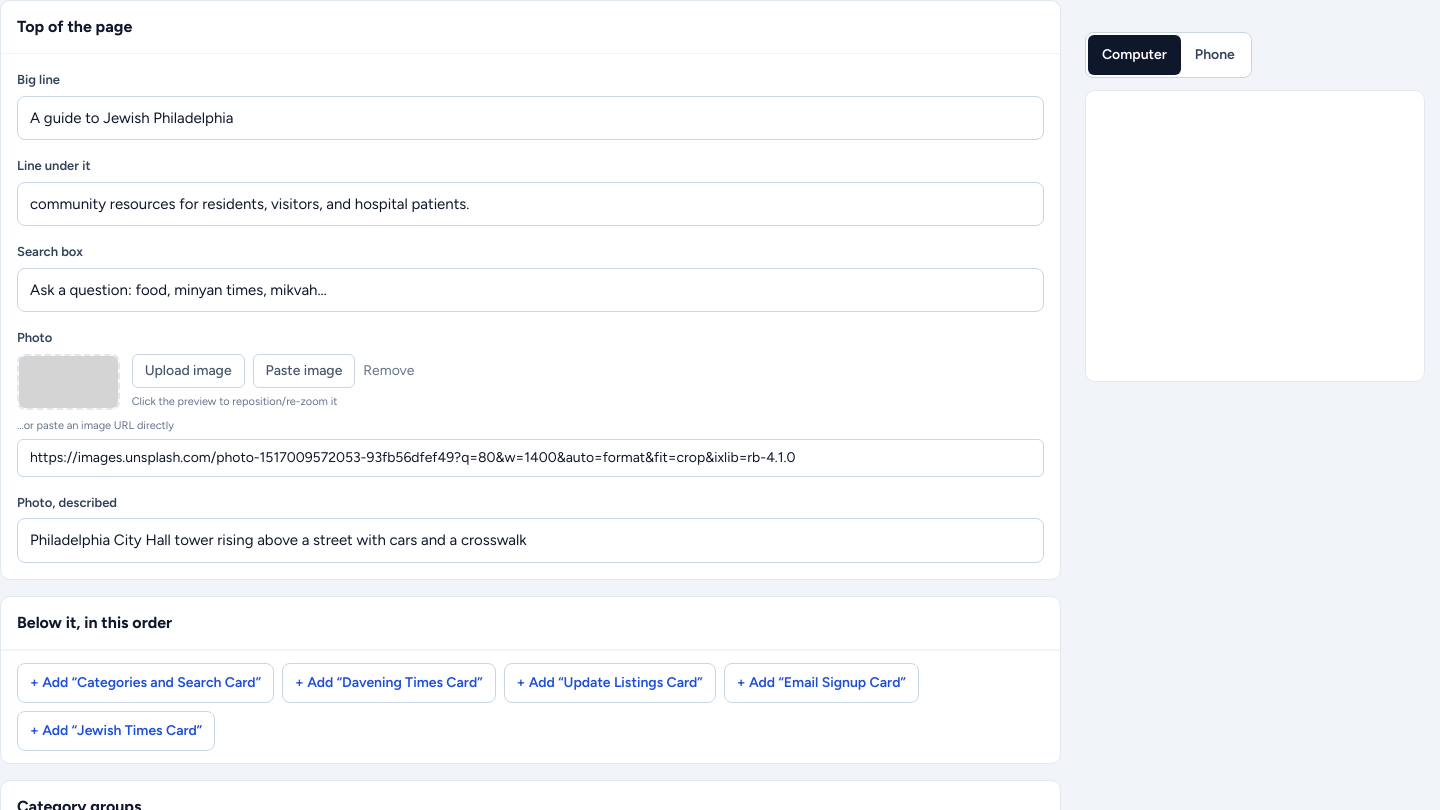
Test: SiteSettingsEditor — Home page › Save sends the settings and says it saved
The width and height of the screenshot is (1440, 810).
Expected: the element named "Preview" is shown, [1085,32,1425,382]
Type "!" into the field labelled "Search box" at (530, 290), box [17,268,1044,312]
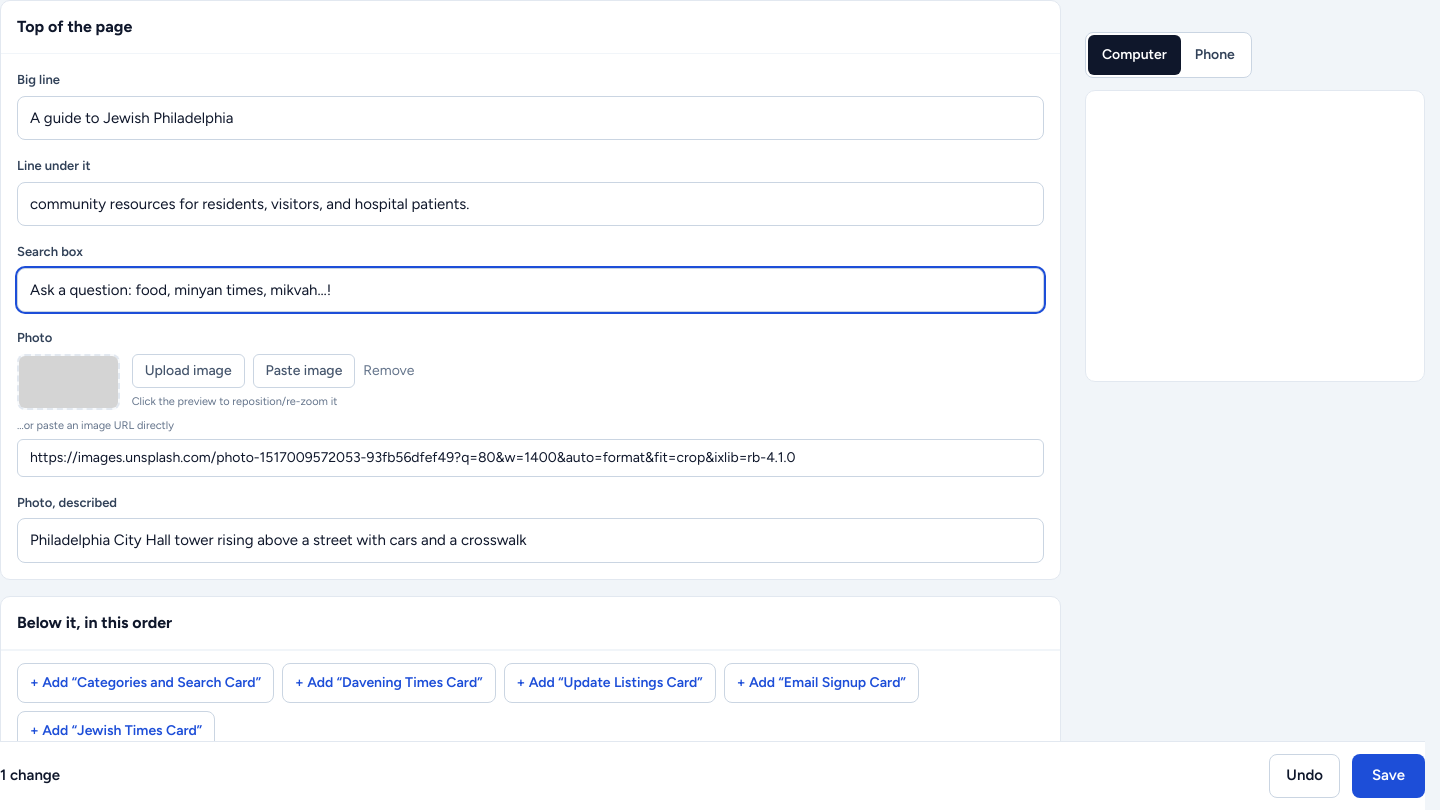
Click the button "Save" at (1388, 776), box [1352,754,1425,798]
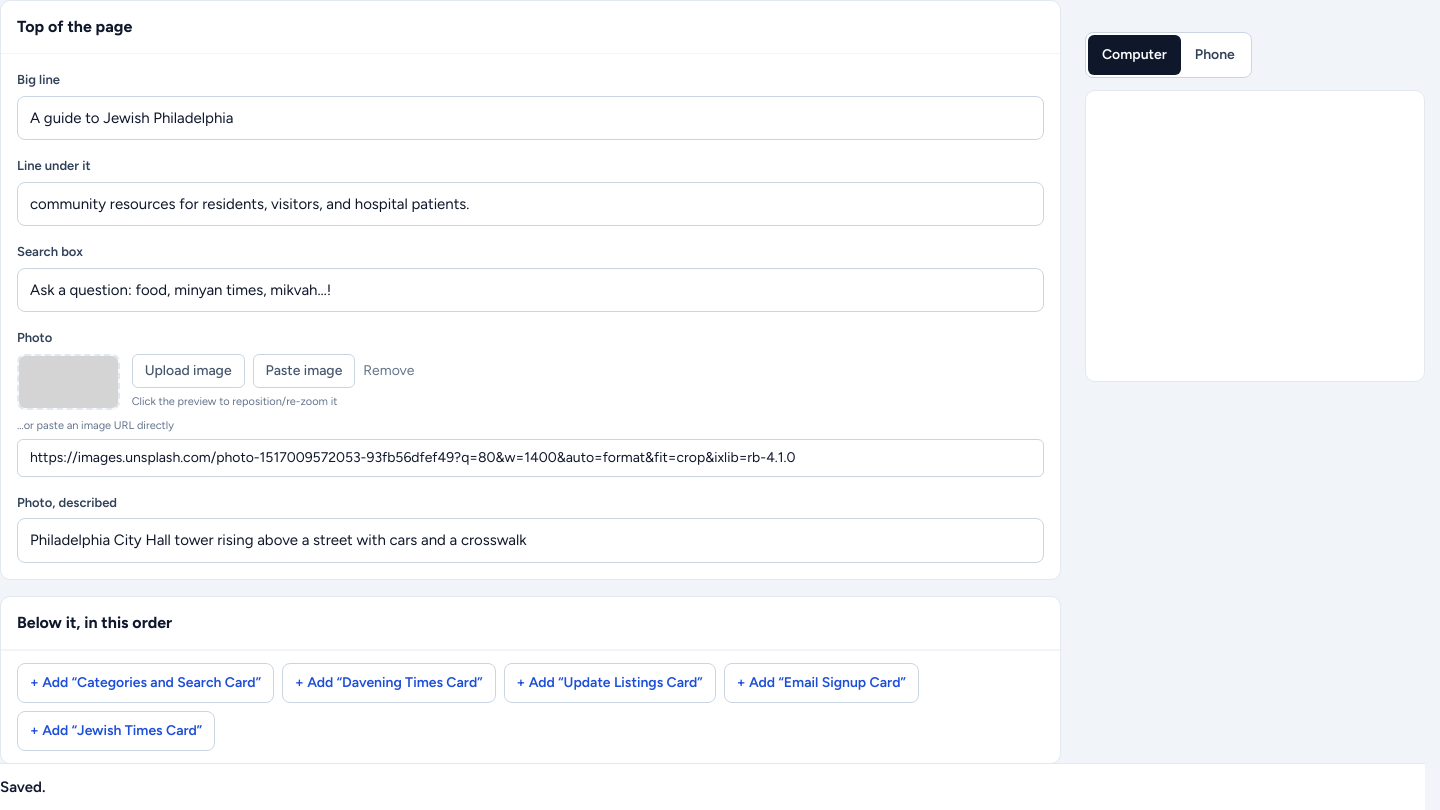
Expected: the text "Saved." is shown, [0,778,45,796]
